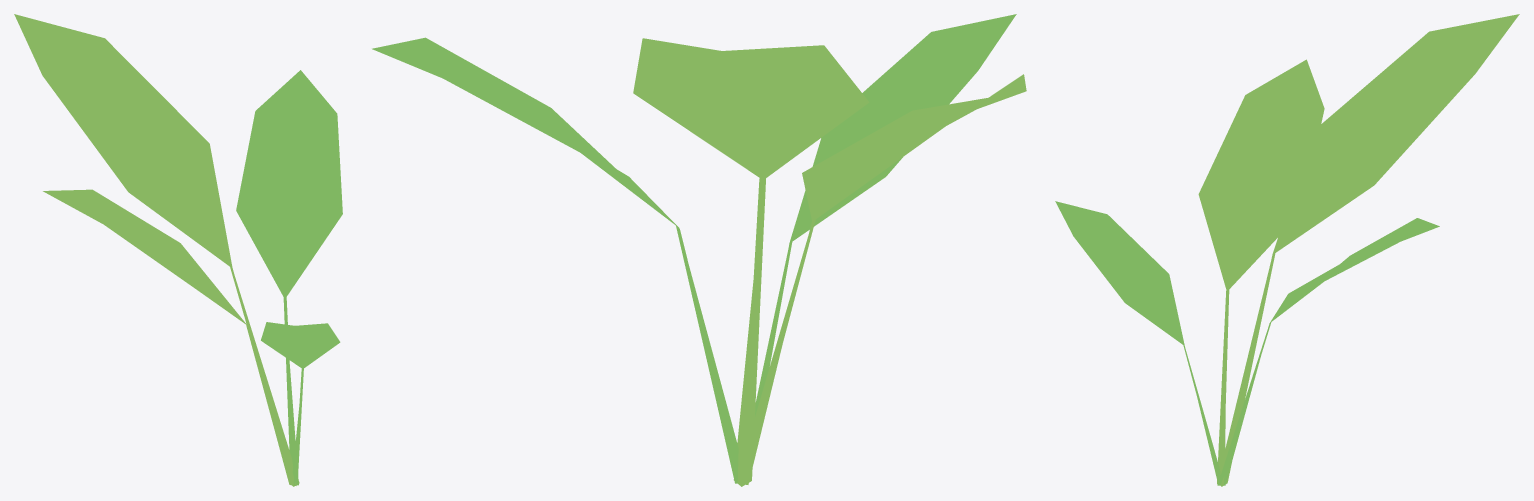
File: Plant_j_OneS_09.fbx
The picture shows the model from 3 angles, left to right: view 1: azimuth 30°, elevation 25°; view 2: azimuth 150°, elevation 25°; view 3: azimuth 270°, elevation 25°; orthographic projection. The views are drawn at different scales.
Visible parts, largest first — view 1: Plant_j_OneS_09; view 2: Plant_j_OneS_09; view 3: Plant_j_OneS_09.
Boxes of the visible parts, x1=… form: Plant_j_OneS_09: x1=14, y1=14, x2=342, y2=486; Plant_j_OneS_09: x1=372, y1=14, x2=1026, y2=486; Plant_j_OneS_09: x1=1055, y1=14, x2=1519, y2=486.
Size of the model in its own units: 0.2797 by 0.3246 by 0.3387.
